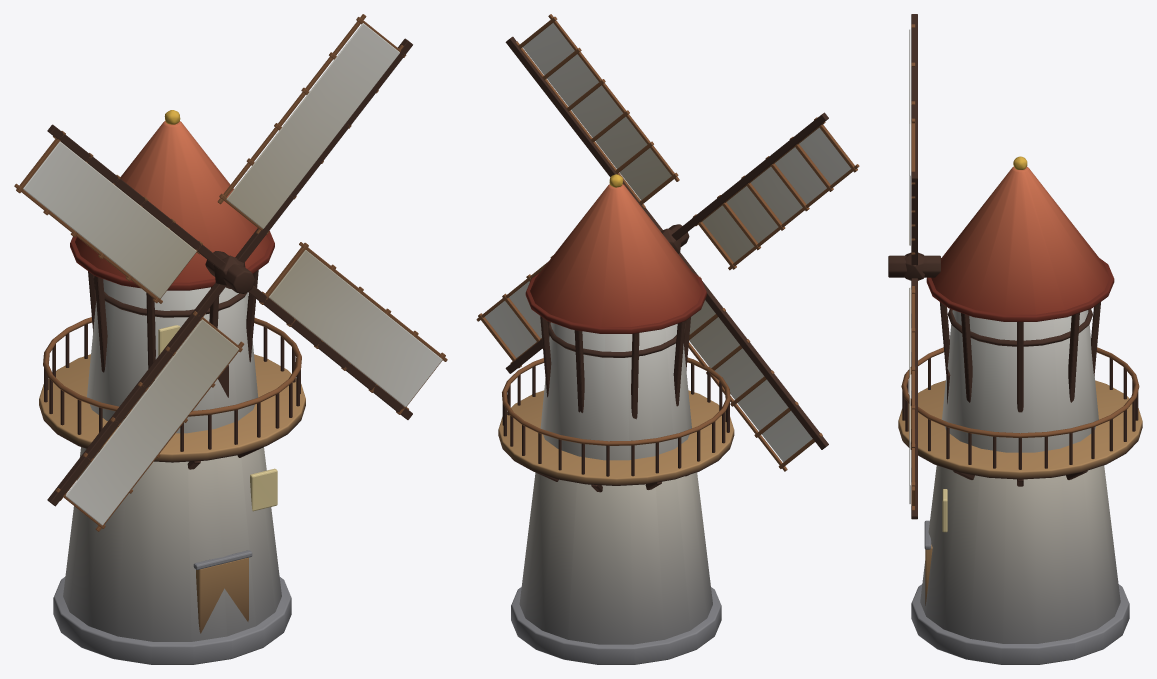
File: windmill.glb
3 renders of one model, left to right at view 1: azimuth 30°, elevation 25°; view 2: azimuth 150°, elevation 25°; view 3: azimuth 270°, elevation 25°, orthographic. The views are drawn at different scales.
Visible parts, largest first — view 1: Tower, SailsMesh; view 2: Tower, SailsMesh; view 3: Tower, SailsMesh.
Part boxes in pixels (left/top/right/bottom): Tower: left=39, top=110, right=305, bottom=664; SailsMesh: left=14, top=14, right=447, bottom=531; Tower: left=498, top=174, right=734, bottom=664; SailsMesh: left=476, top=14, right=859, bottom=471; Tower: left=888, top=156, right=1142, bottom=664; SailsMesh: left=904, top=14, right=924, bottom=519.
Size of the model in its own units: 6.91 by 9.36 by 3.85.
